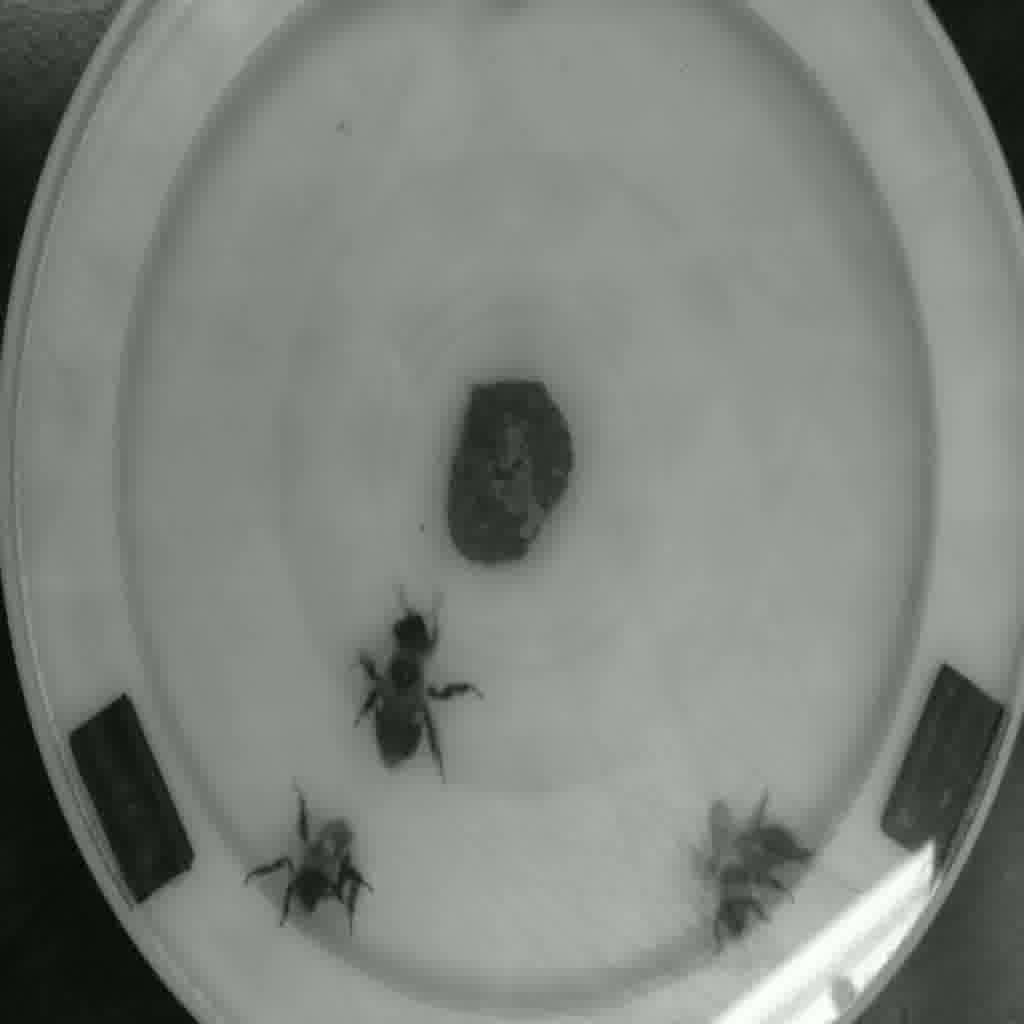bee: (333, 592, 501, 792), (690, 789, 821, 947), (236, 796, 389, 927)
